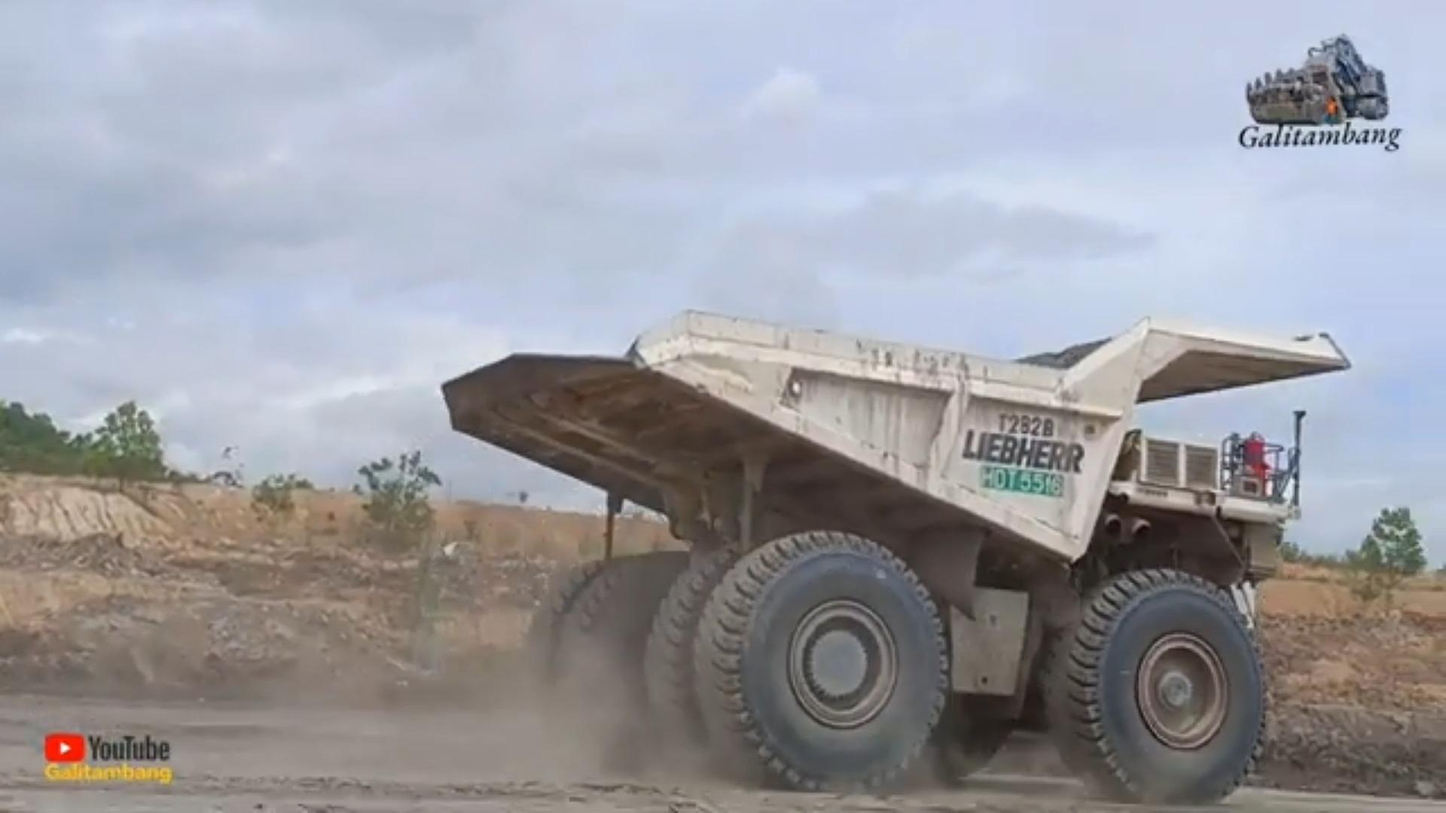HD-Truck: (441, 311, 1350, 803)
